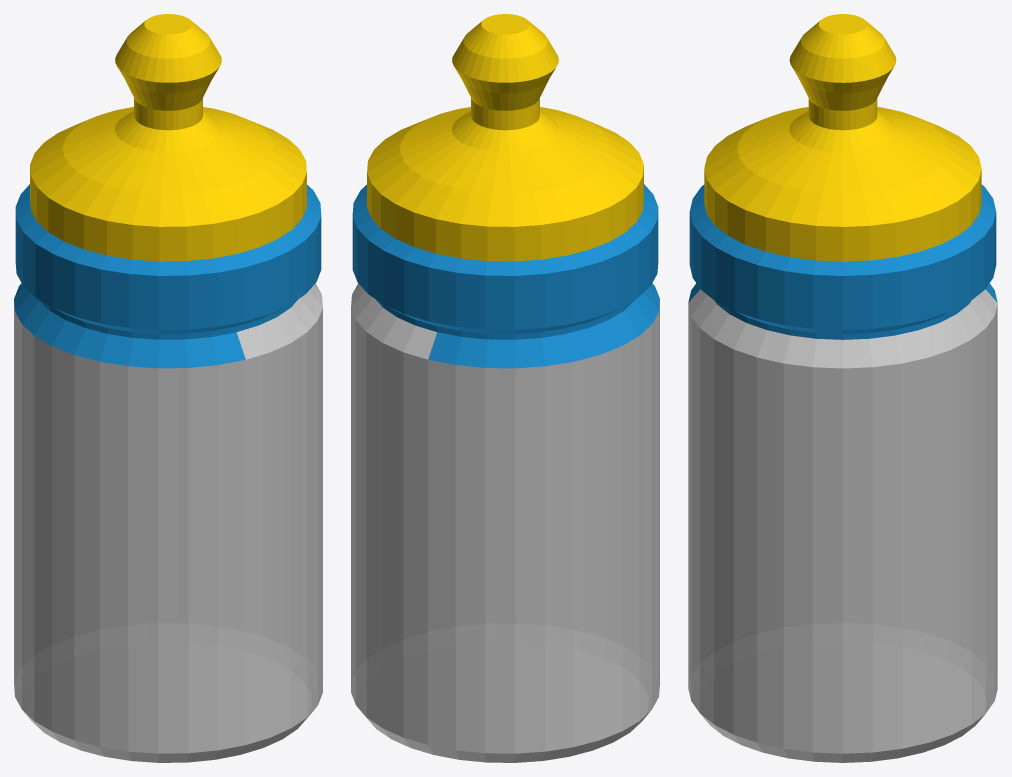
The model's file is baby_bottle.fbx.
The picture shows the model from 3 angles, left to right: view 1: azimuth 30°, elevation 25°; view 2: azimuth 150°, elevation 25°; view 3: azimuth 270°, elevation 25°; orthographic projection.
Visible parts, largest first — view 1: Circle; view 2: Circle; view 3: Circle.
Part boxes in pixels (box(x1,y1,x2,y2)): Circle: box(14, 14, 322, 762); Circle: box(351, 14, 659, 762); Circle: box(688, 14, 997, 762).
Size of the model in its own units: 215 by 520 by 215.
